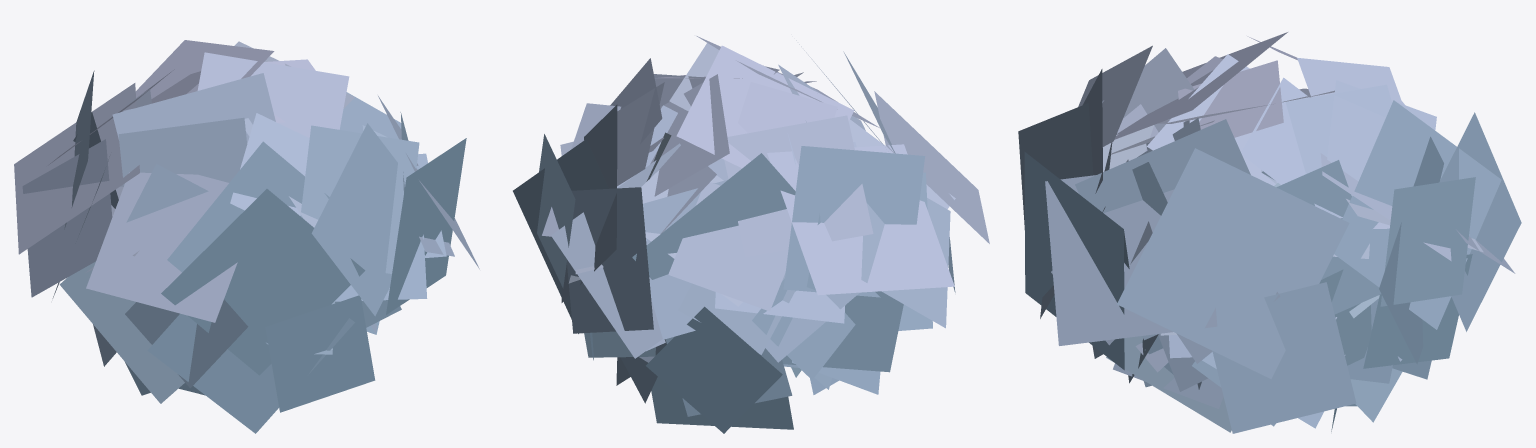
Rendered from tsutsuji.glb.
3 views of the same model, side by side, from view 1: azimuth 30°, elevation 25°; view 2: azimuth 150°, elevation 25°; view 3: azimuth 270°, elevation 25° (orthographic). The views are drawn at different scales.
Parts seen in each view (by area): view 1: v2_lod1_leaf, v2_lod0_leaf, v1_lod1_leaf; view 2: v2_lod1_leaf, v2_lod0_leaf, v1_lod1_leaf; view 3: v2_lod1_leaf, v2_lod0_leaf, v1_lod1_leaf, v1_lod0_leaf, v0_lod1_leaf.
Part boxes in pixels (box(x1,y1,x2,y2)): v2_lod1_leaf: box(14, 40, 479, 433); v2_lod0_leaf: box(33, 58, 454, 412); v1_lod1_leaf: box(93, 300, 401, 366); v2_lod1_leaf: box(513, 36, 989, 358); v2_lod0_leaf: box(534, 58, 955, 433); v1_lod1_leaf: box(616, 339, 880, 429); v2_lod1_leaf: box(1018, 32, 1521, 378); v2_lod0_leaf: box(1030, 36, 1480, 433); v1_lod1_leaf: box(1106, 171, 1431, 432); v1_lod0_leaf: box(1092, 298, 1392, 426); v0_lod1_leaf: box(1113, 335, 1345, 431).
Size of the model in its own units: 3.09 by 2.41 by 2.93.
